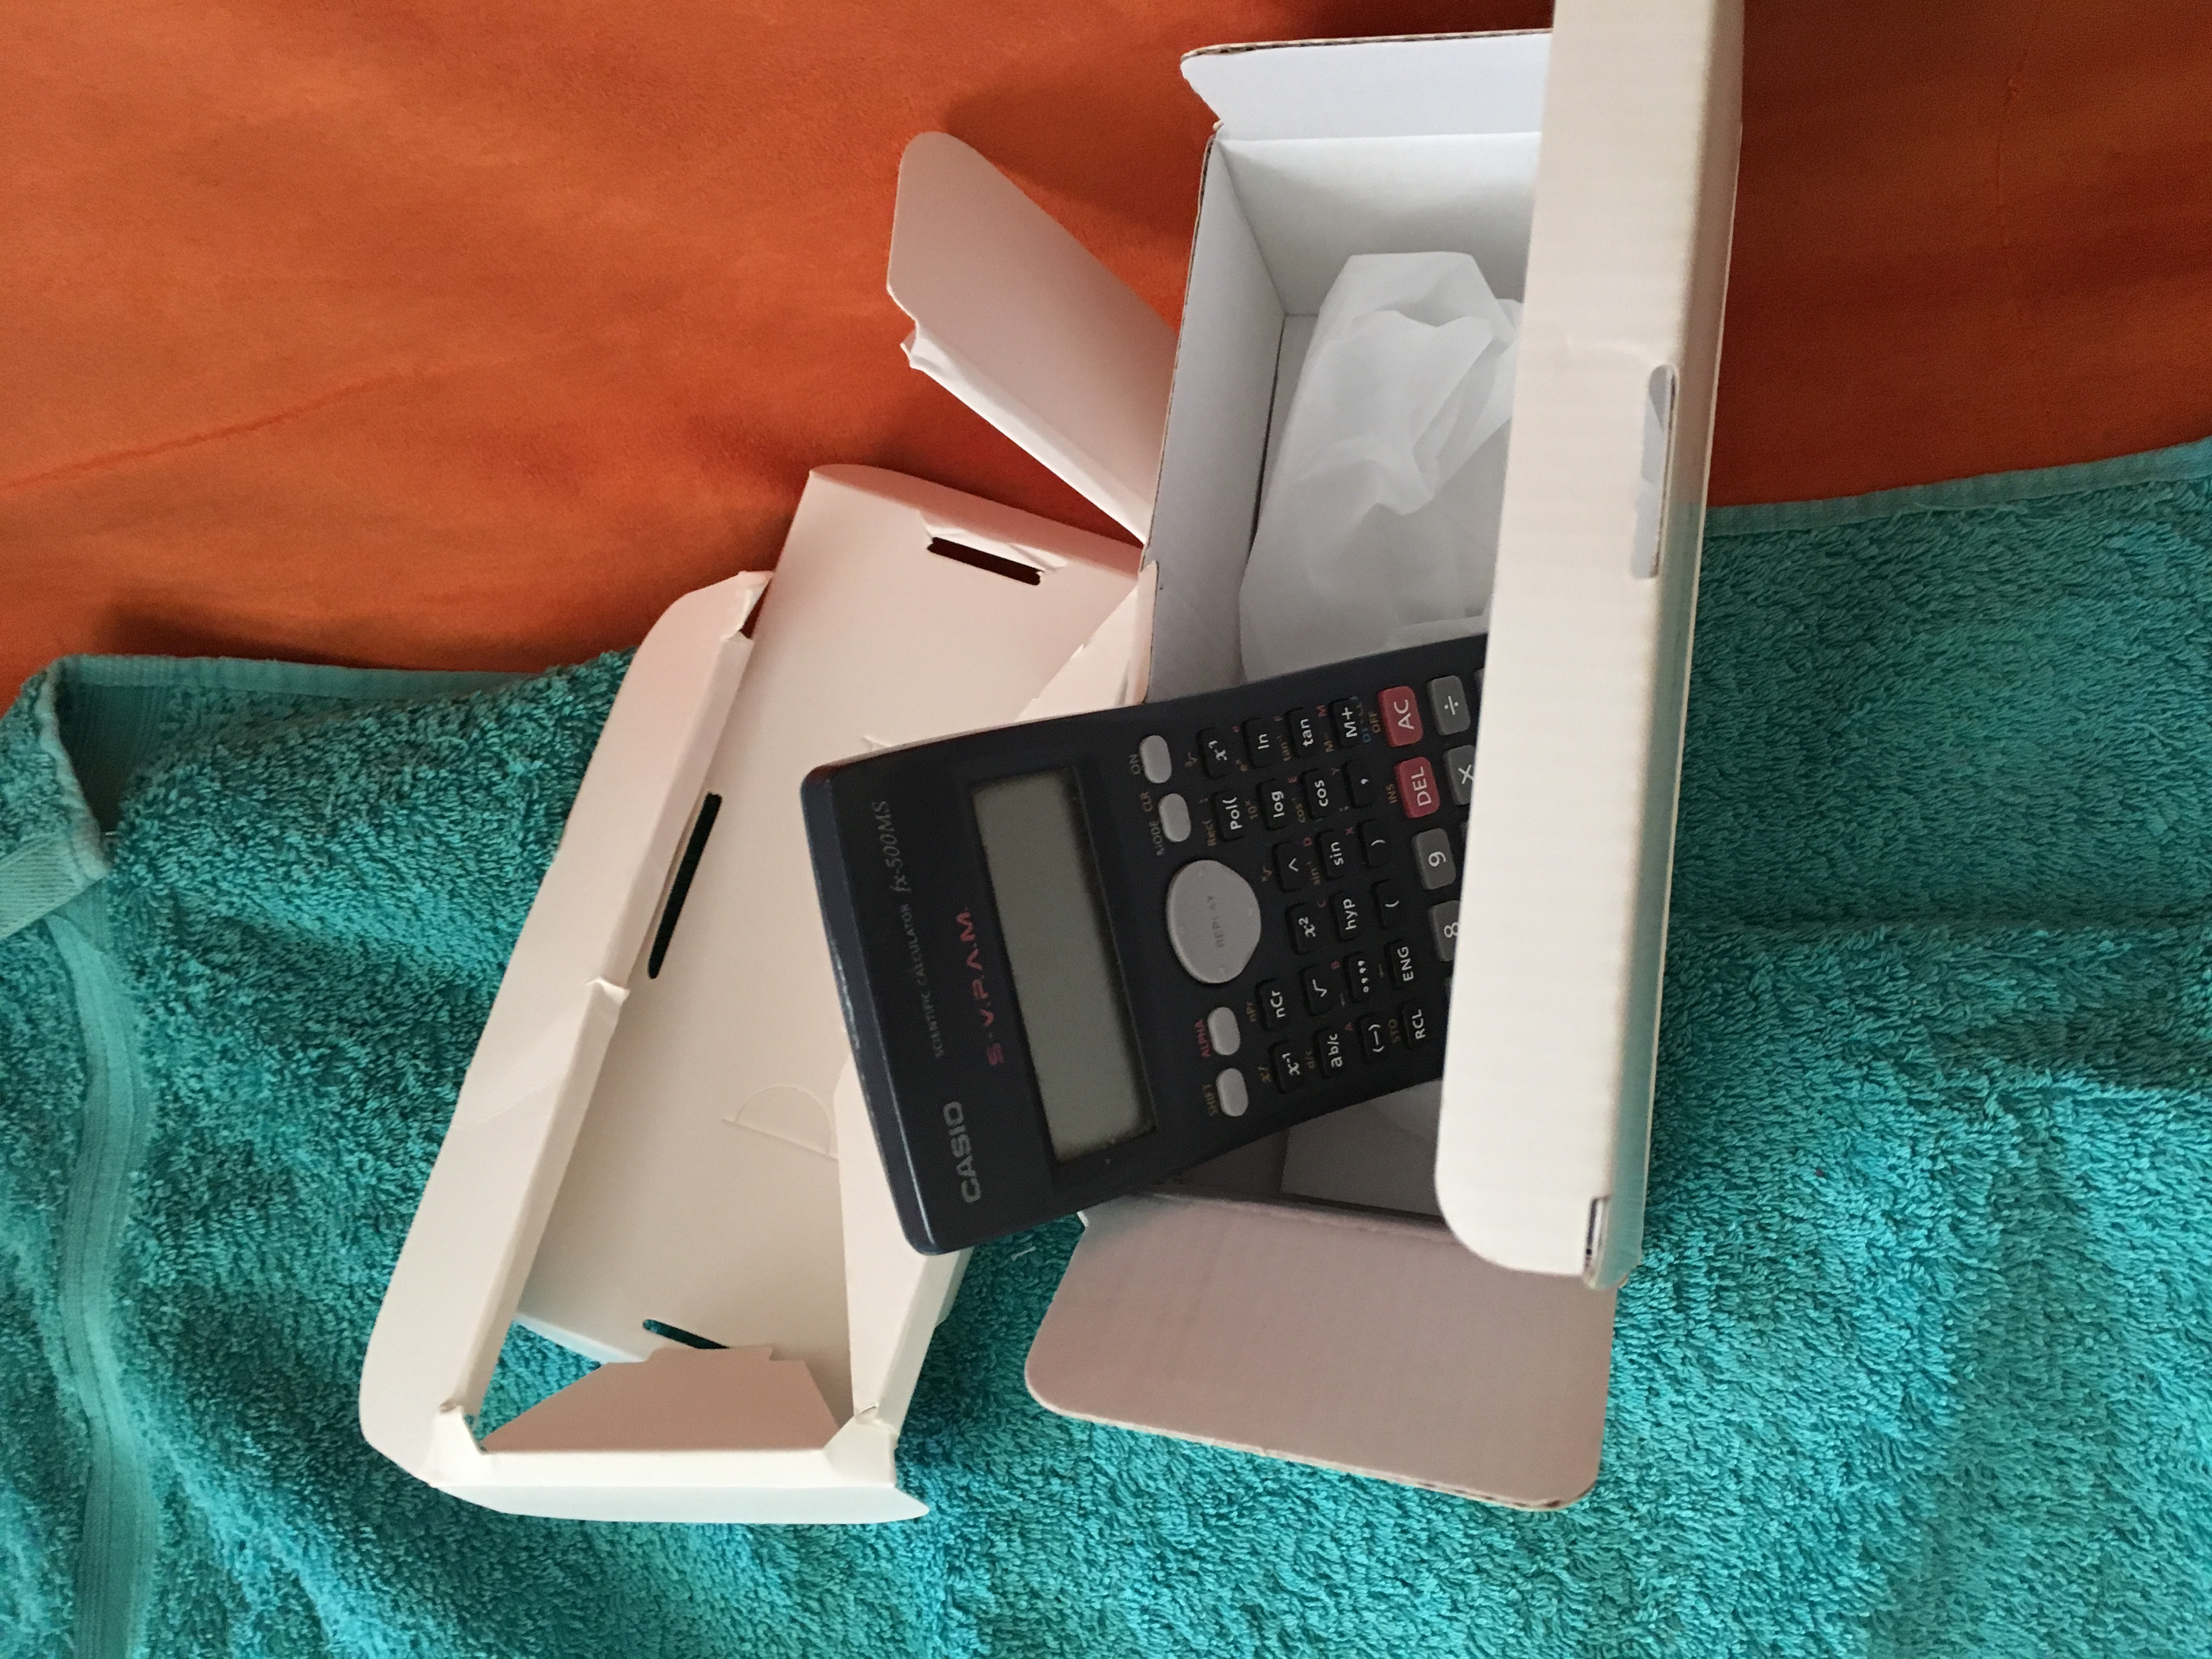Calculator: (796, 598, 1486, 1270)
